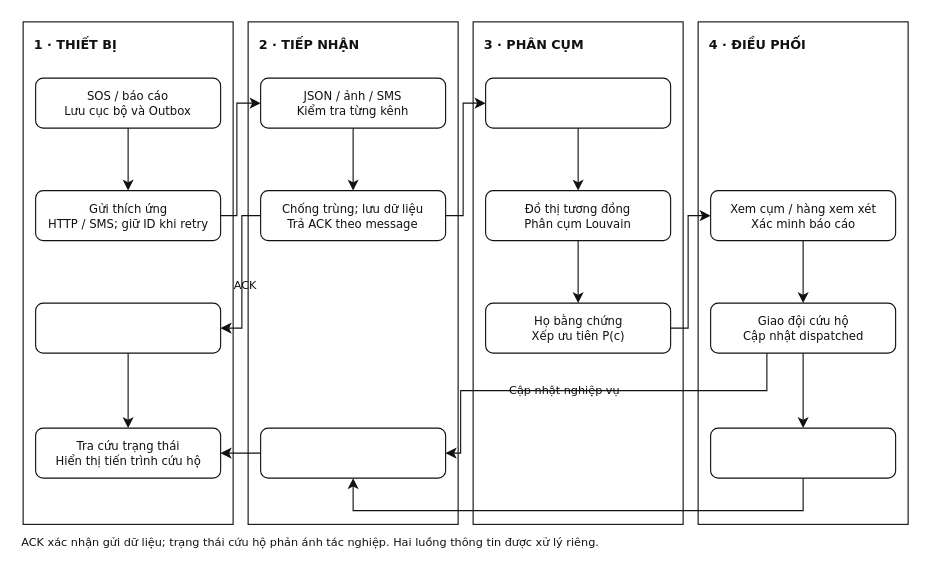
Image size: 930x573. Some labels were removed from this diagram. The box of each missing label's shape, as (x1, y1, x2, y2) in pixels:
Ghi thay đổi và nhật ký Cung cấp trạng thái mới: (260, 427, 446, 478)
Nhận ACK metadata Hoàn tất ảnh nếu có: (34, 302, 221, 353)
Tác nghiệp; đóng ca resolved / cancelled: (710, 427, 896, 478)
Đọc báo cáo đang xử lý Thiếu vị trí/giờ: xem xét: (484, 77, 671, 128)
